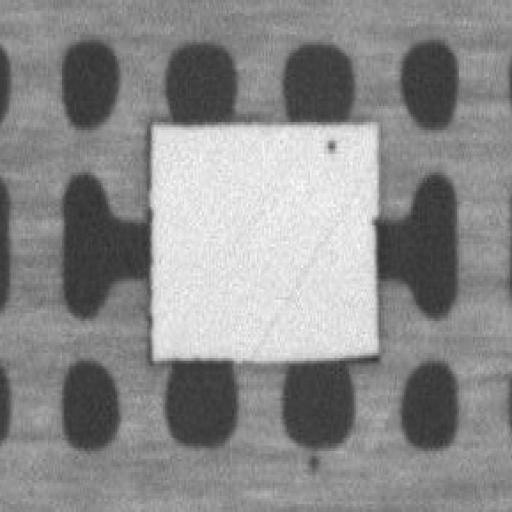DIE_CRACK: (250, 156, 374, 345)
DIE_INK: (322, 130, 336, 154)
